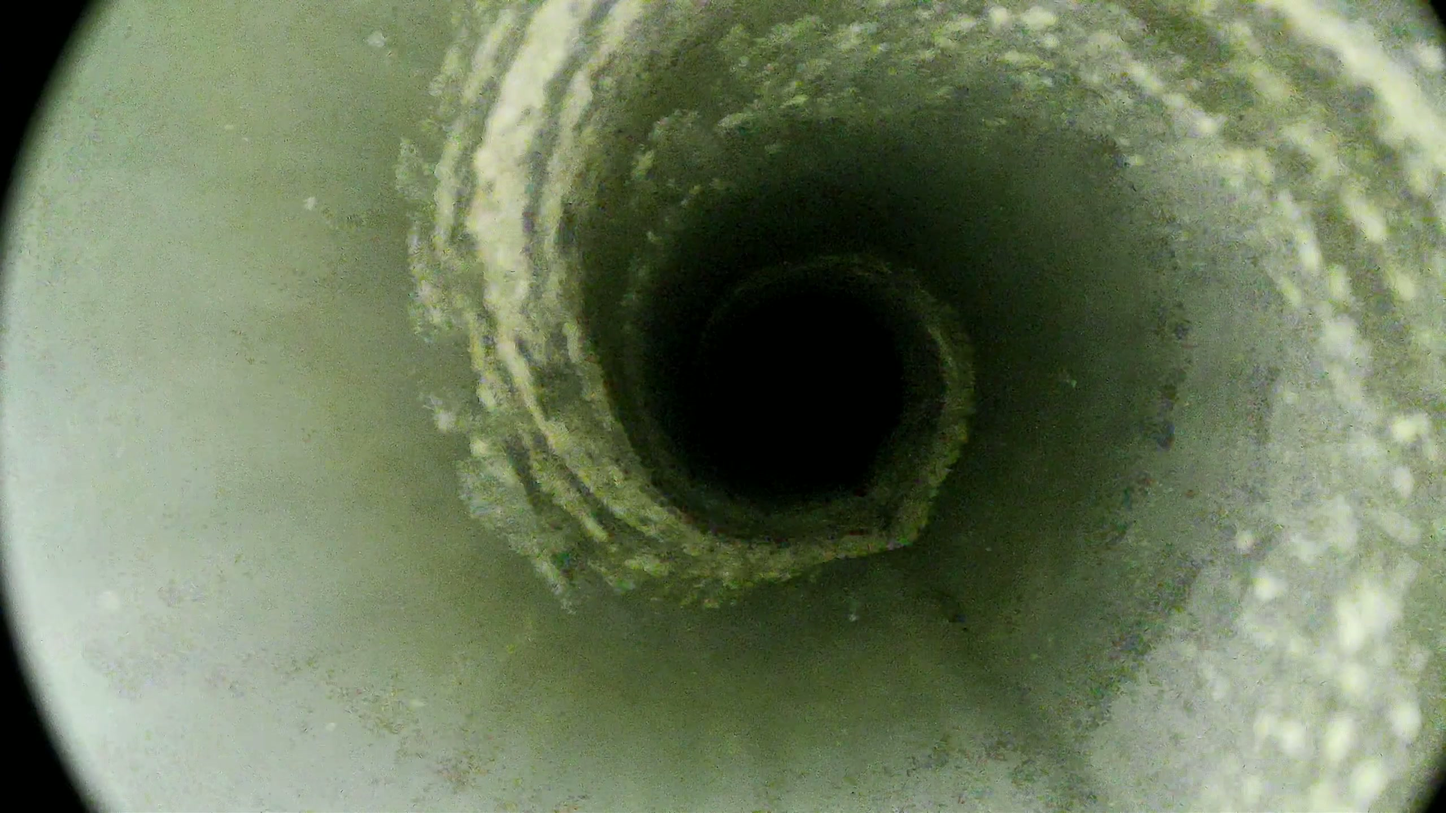hole: (709, 295, 902, 485)
